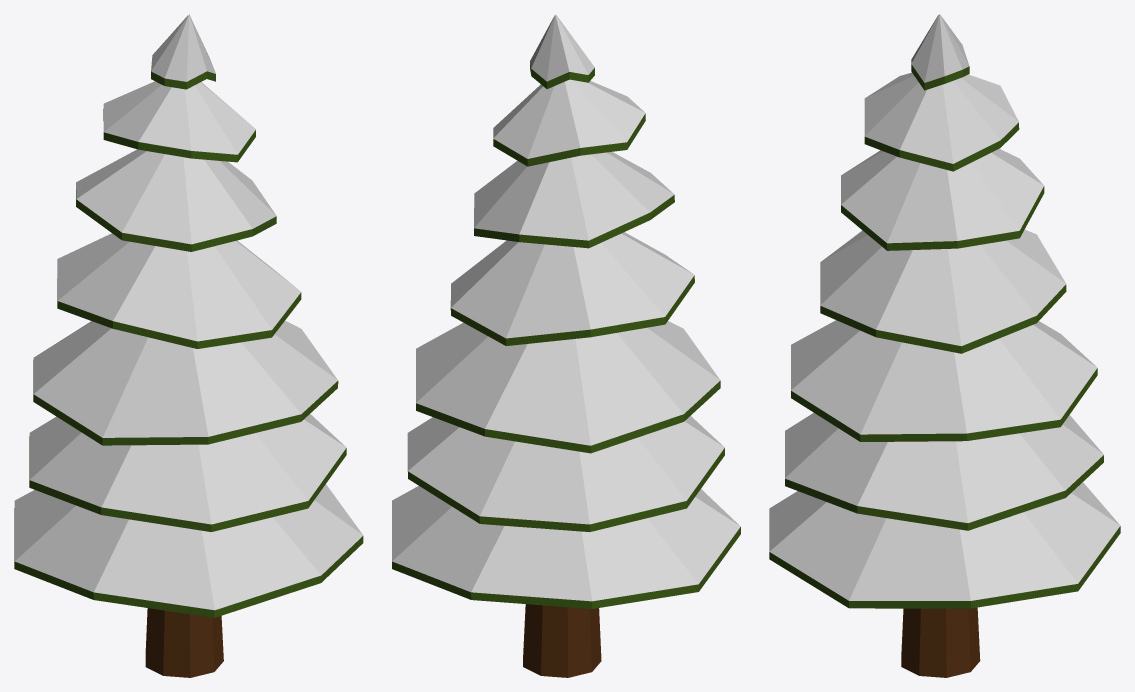
Rendered from Tree_03.fbx.
3 renders of one model, left to right at view 1: azimuth 30°, elevation 25°; view 2: azimuth 150°, elevation 25°; view 3: azimuth 270°, elevation 25°, orthographic.
Visible parts, largest first — view 1: Tree_03; view 2: Tree_03; view 3: Tree_03.
Part boxes in pixels (bbox=[...]): Tree_03: bbox=[14, 14, 363, 677]; Tree_03: bbox=[392, 15, 740, 677]; Tree_03: bbox=[769, 14, 1120, 677].
Bounding box in the file's own units: 263 × 529 × 259.
